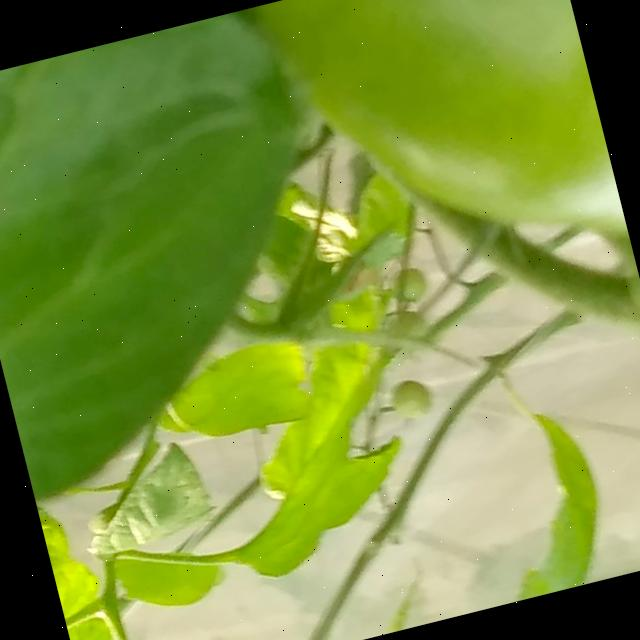tomato: (97, 0, 640, 434)
